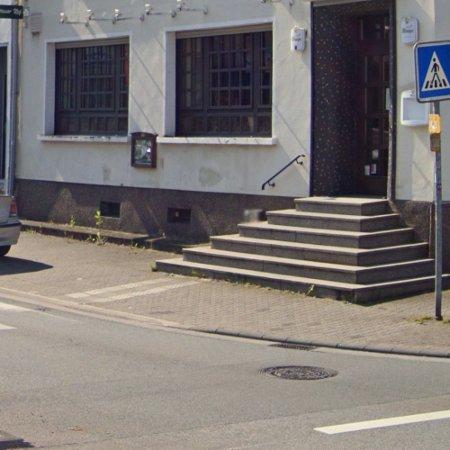stairs: (156, 199, 435, 302)
